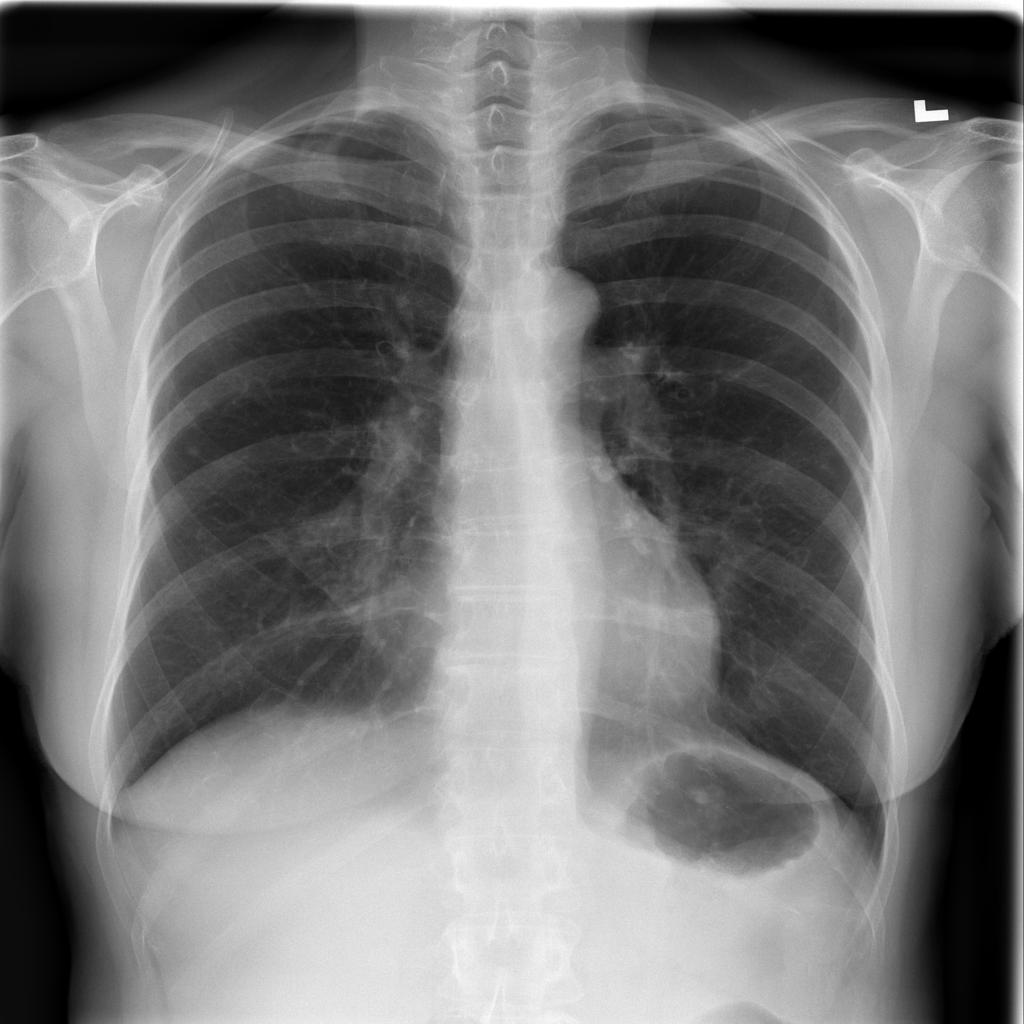nodule: (167, 424, 223, 471)
